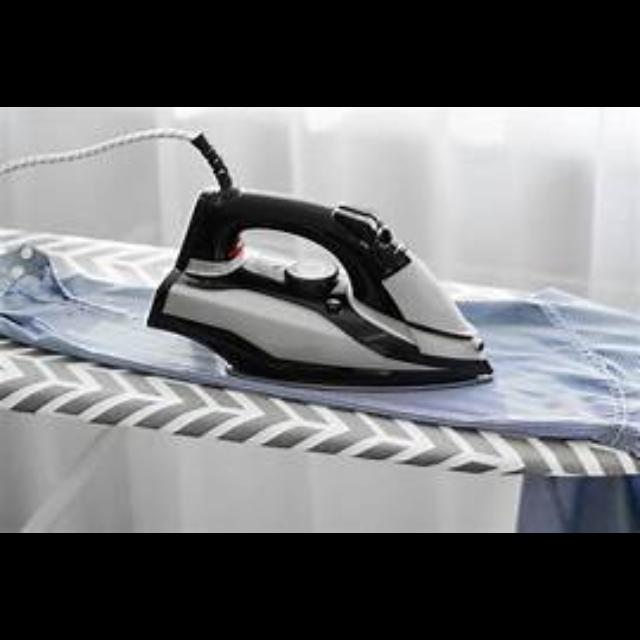Clothes-Iron: (142, 172, 504, 398)
